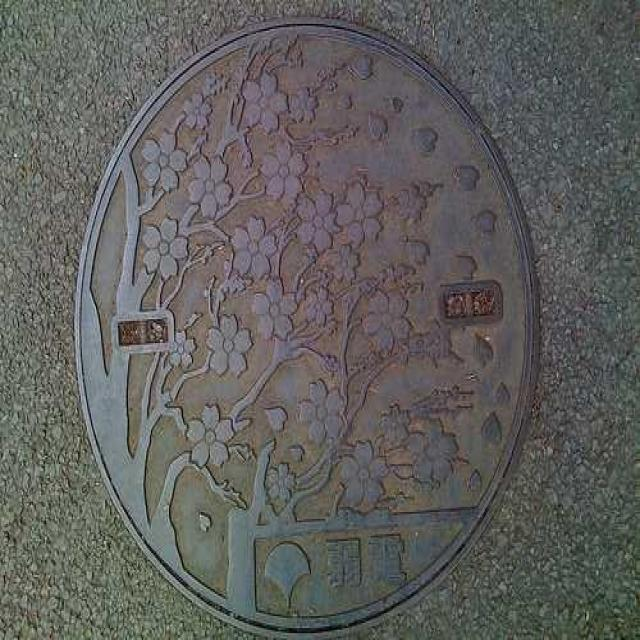manhole: (76, 20, 534, 631)
